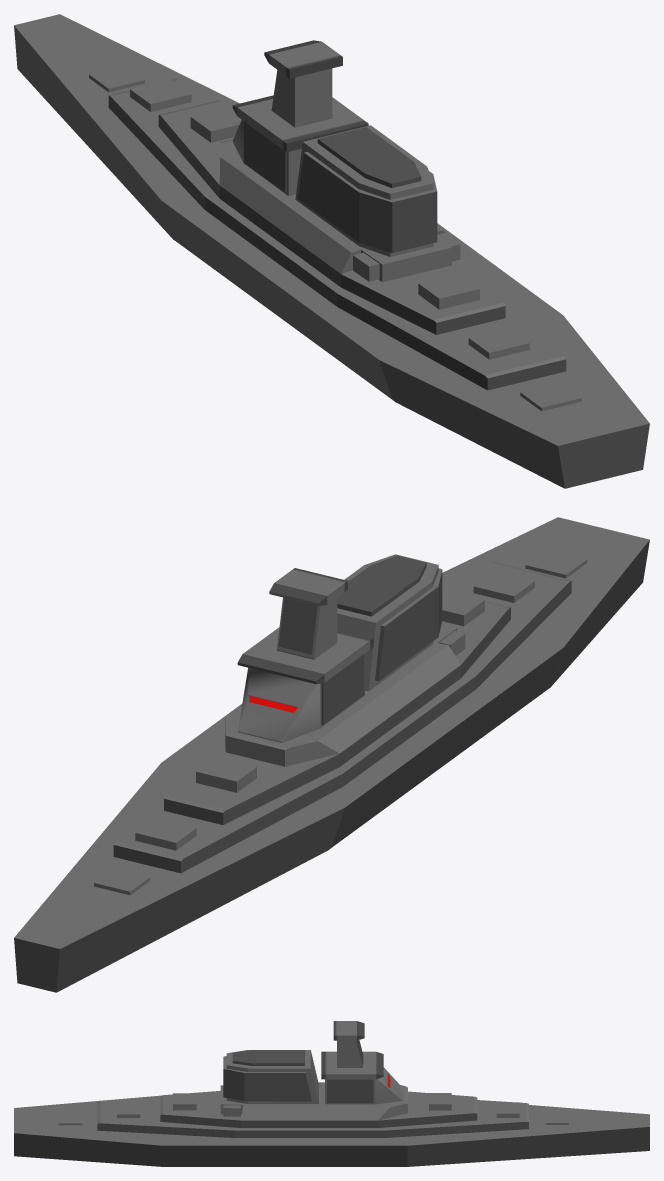
File: EnemyWarshipBody.fbx
The picture shows the model from 3 angles, top to bottom: view 1: azimuth 30°, elevation 25°; view 2: azimuth 150°, elevation 25°; view 3: azimuth 270°, elevation 25°; orthographic projection. The views are drawn at different scales.
Parts seen in each view (by area): view 1: Cube; view 2: Cube; view 3: Cube.
Part boxes in pixels (box(x1,y1,x2,y2)): Cube: box(14, 14, 649, 488); Cube: box(14, 517, 649, 992); Cube: box(14, 1021, 649, 1166).
Size of the model in its own units: 2160 by 2334 by 11540.
1 material, 1 textured.
